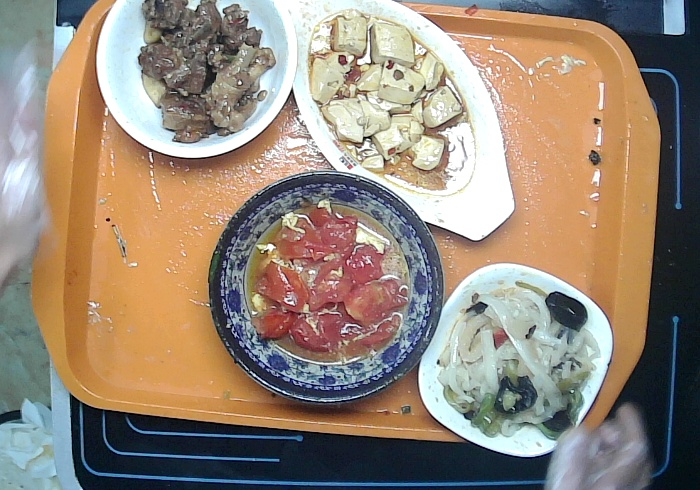ZNLD-Qing_Hua_Wan: (205, 170, 442, 412)
ZNLD-Si_Fang_Wan: (414, 263, 612, 466)
ZNLD-Tang_Wan: (93, 2, 295, 159)
ZNLD-Yu_Pan: (293, 5, 519, 244)
